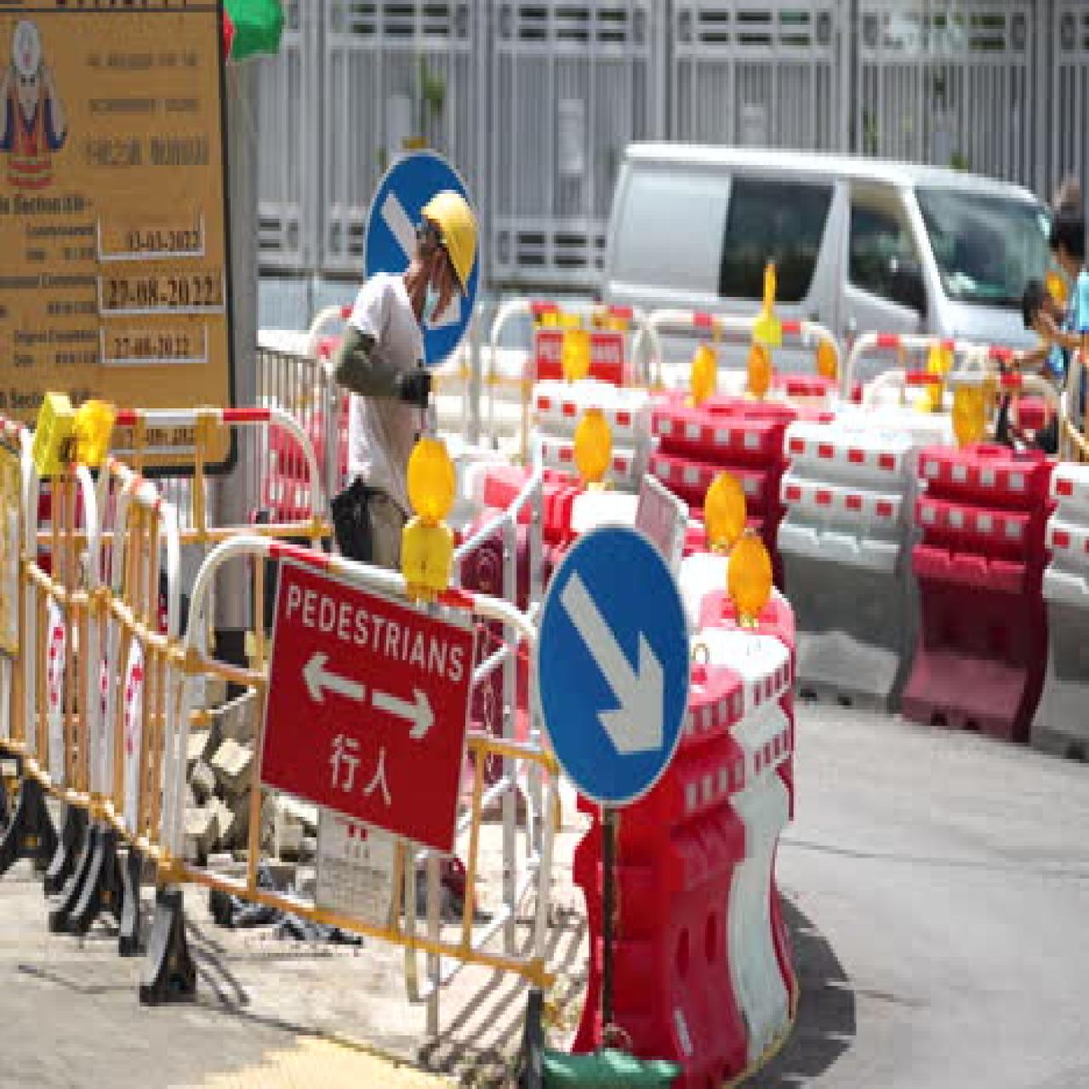NO_Safety_Vest: (342, 270, 434, 495)
Person: (330, 158, 476, 632)
